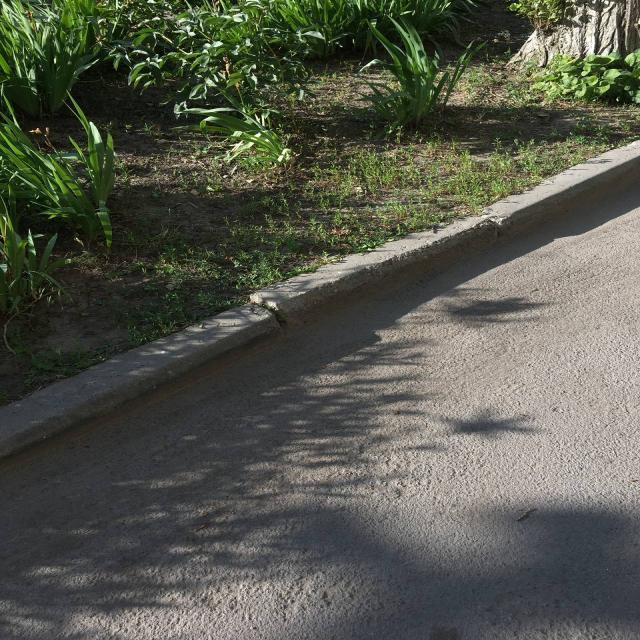bump: (0, 306, 273, 458), (245, 214, 482, 340), (464, 139, 639, 240)
